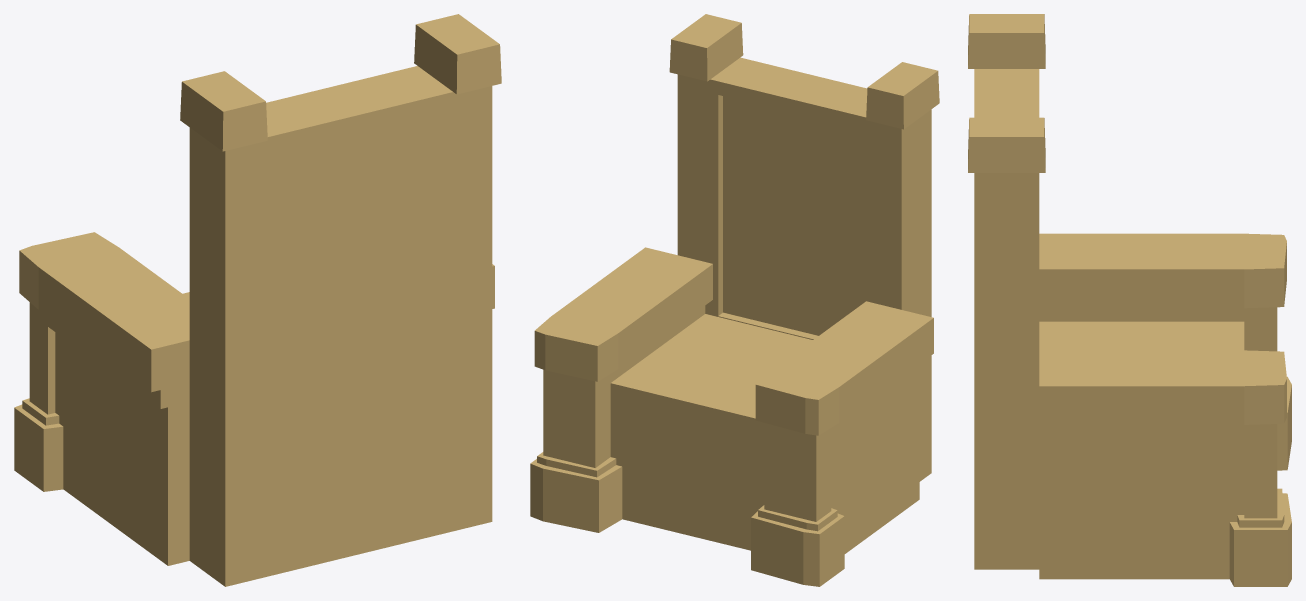
The model's file is trono.fbx.
The picture shows the model from 3 angles, left to right: view 1: azimuth 30°, elevation 25°; view 2: azimuth 150°, elevation 25°; view 3: azimuth 270°, elevation 25°; orthographic projection. The views are drawn at different scales.
Visible parts, largest first — view 1: Cube; view 2: Cube; view 3: Cube.
Boxes of the visible parts, box(x1,y1,x2,y2) form: Cube: box(14, 14, 501, 586); Cube: box(530, 14, 939, 586); Cube: box(968, 14, 1291, 586).
Bounding box in the file's own units: 155 × 205 × 138.
